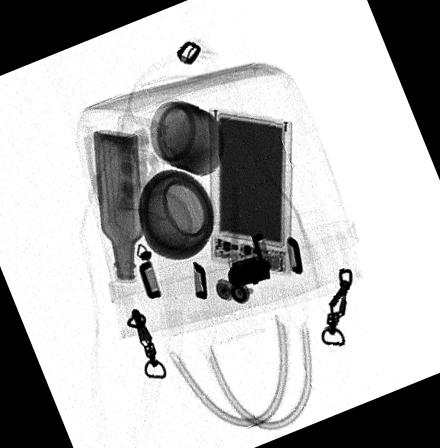Powerbank: (211, 107, 291, 275)
